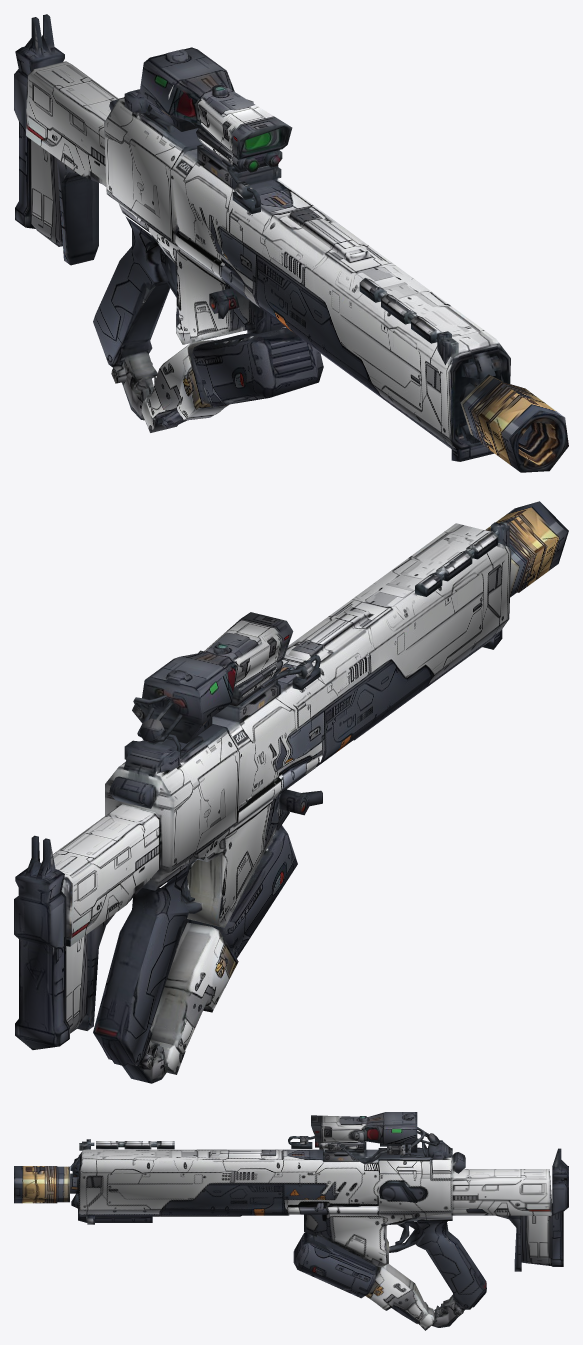
3 views of the same model, one above another, from view 1: azimuth 30°, elevation 25°; view 2: azimuth 150°, elevation 25°; view 3: azimuth 270°, elevation 25° (orthographic). The views are drawn at different scales.
Parts seen in each view (by area): view 1: gun; view 2: gun; view 3: gun.
Part boxes in pixels (x1=…): gun: x1=14, y1=14, x2=568, y2=472; gun: x1=14, y1=501, x2=568, y2=1083; gun: x1=14, y1=1112, x2=568, y2=1330.
Size of the model in its own units: 0.7044 by 2.65 by 6.3.
1 material, 1 textured.
